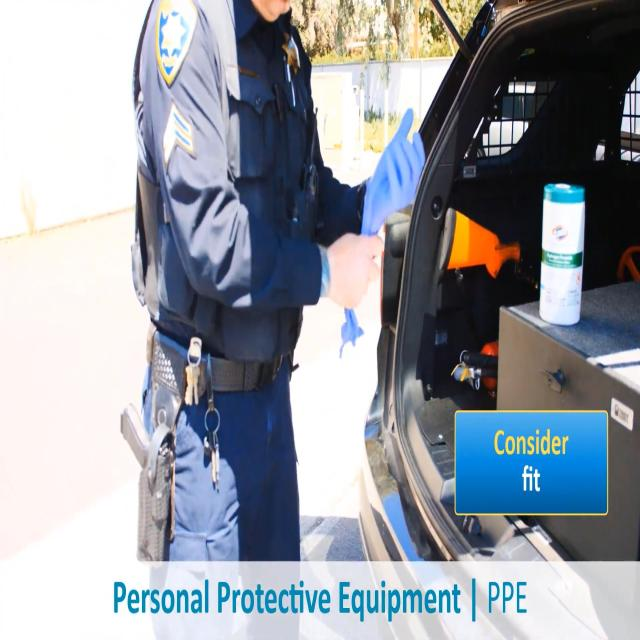Gloves: (359, 111, 437, 250)
